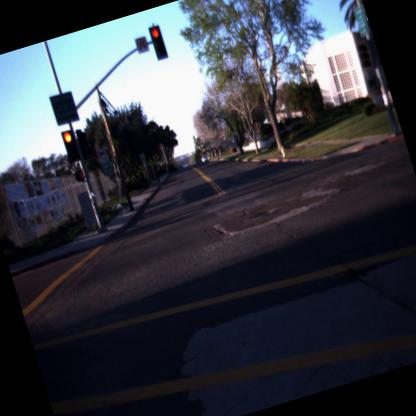trafficlight: (58, 123, 85, 168), (145, 22, 170, 63)
